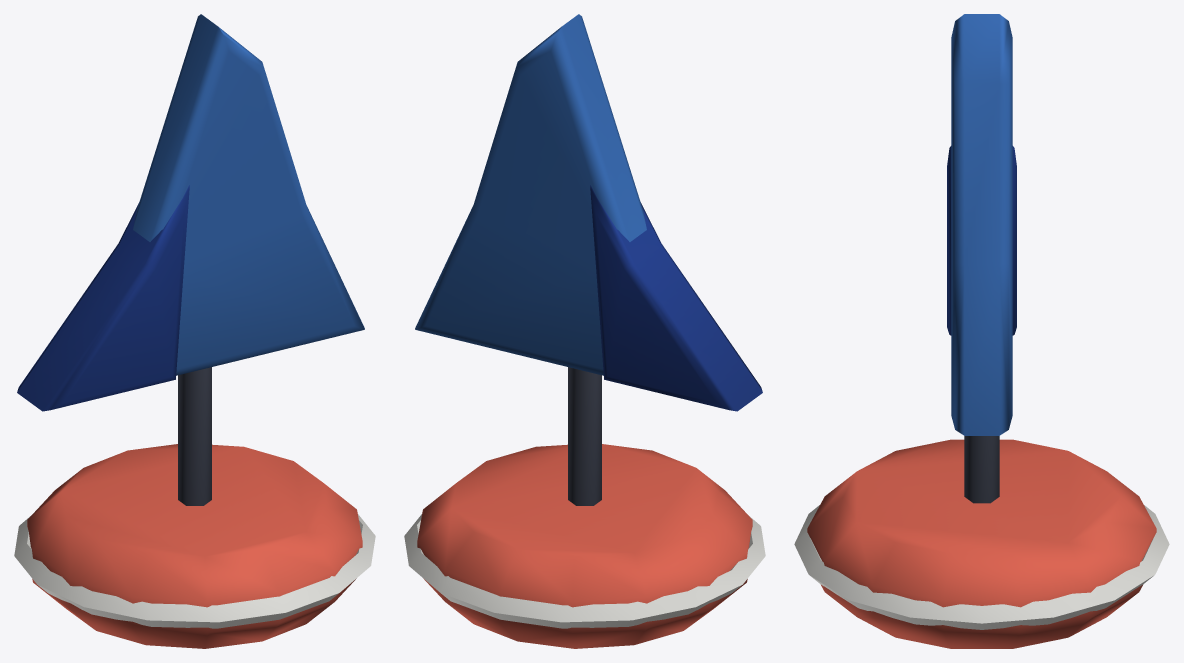
The model's file is SM_Prop_FinMarker.fbx.
3 renders of one model, left to right at view 1: azimuth 30°, elevation 25°; view 2: azimuth 150°, elevation 25°; view 3: azimuth 270°, elevation 25°, orthographic. The views are drawn at different scales.
Visible parts, largest first — view 1: SM_Prop_FinMarker; view 2: SM_Prop_FinMarker; view 3: SM_Prop_FinMarker.
Part boxes in pixels (box(x1,y1,x2,y2)): SM_Prop_FinMarker: box(14, 14, 375, 648); SM_Prop_FinMarker: box(404, 14, 765, 648); SM_Prop_FinMarker: box(794, 14, 1169, 648).
Bounding box in the file's own units: 44.55 × 74.05 × 43.05.
